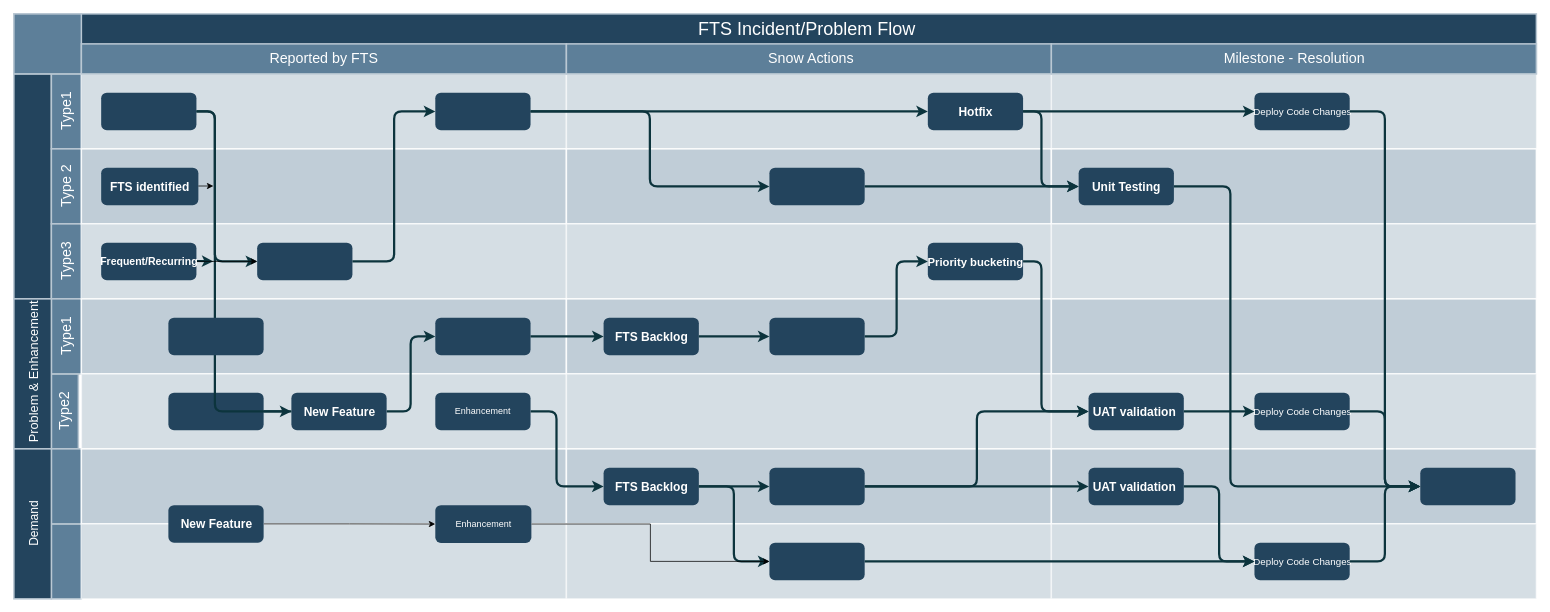
The diagram is 1550 pixels wide and 612 high, and some of its shapes have lost their labels. The shapes that lost their labels are listed below. From the top down, each one's centre as x and y in pixels, then its label:
At pixel 47 43: "v 1.0".
At pixel 148 111: "Error Reporting".
At pixel 482 111: "SLA Bound Incident".
At pixel 32 186: "Incident".
At pixel 816 186: "Workaround".
At pixel 304 261: "User Impact".
At pixel 215 336: "No User Impact".
At pixel 482 336: "Problem".
At pixel 816 336: "Scrumban".
At pixel 215 411: "DPO Discussion".
At pixel 816 486: "User Stories".
At pixel 1467 486: "Resolved/Closed".
At pixel 816 561: "Backlog".
